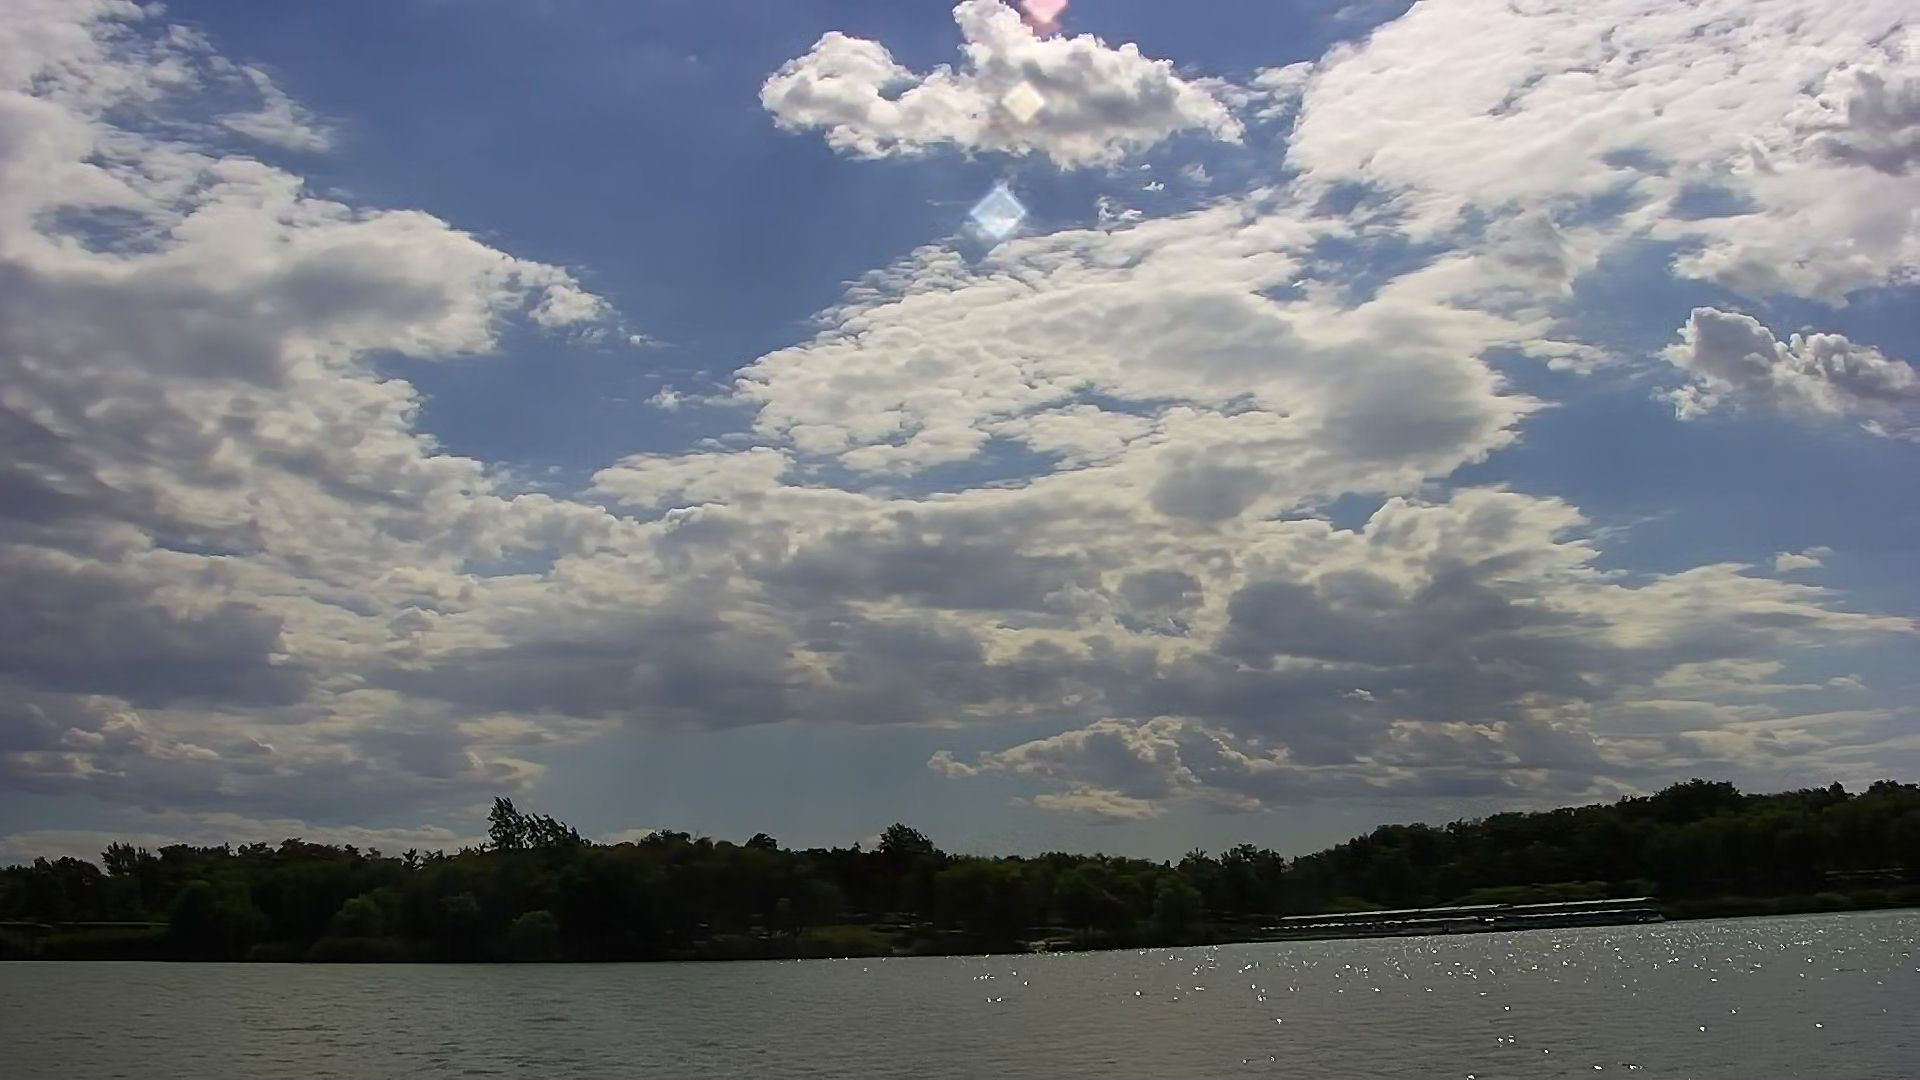harbor: (1251, 887, 1685, 953)
